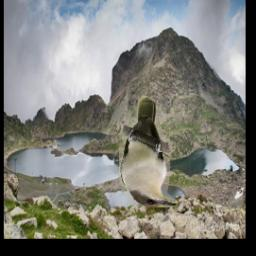Cuckoo: (119, 96, 178, 208)
